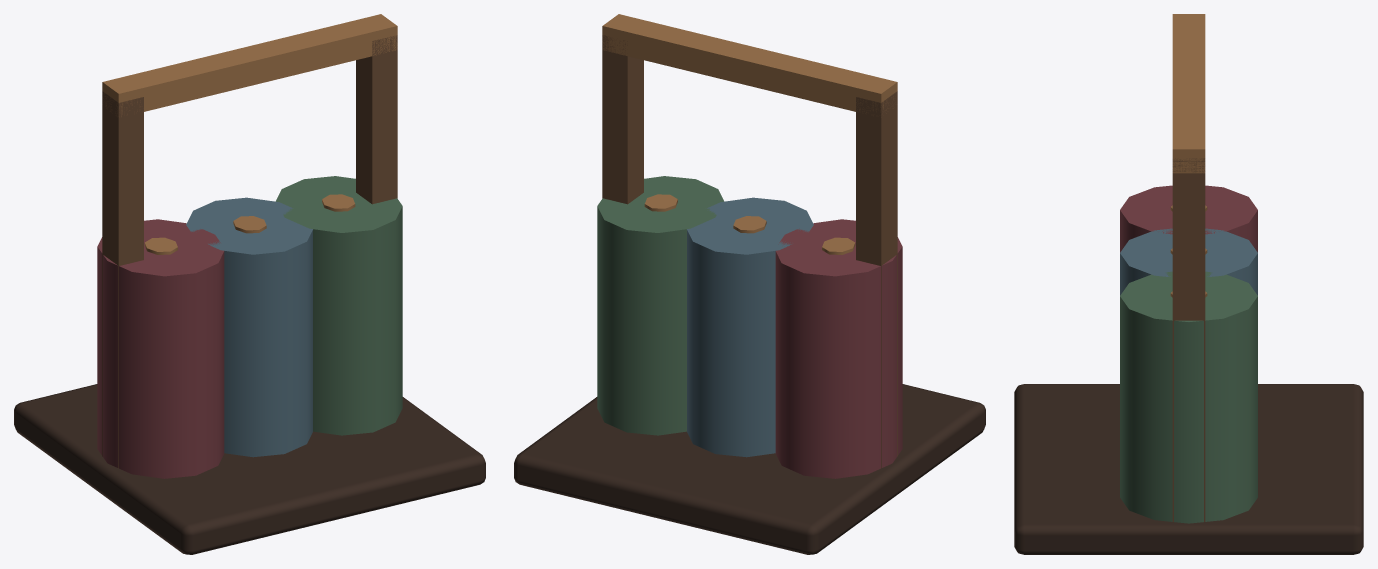
Rendered from cloth_bolts.glb.
3 renders of one model, left to right at view 1: azimuth 30°, elevation 25°; view 2: azimuth 150°, elevation 25°; view 3: azimuth 270°, elevation 25°, orthographic.
Visible parts, largest first — view 1: cloth_bolts; view 2: cloth_bolts; view 3: cloth_bolts.
Part boxes in pixels (x1=…): cloth_bolts: x1=14, y1=14, x2=485, y2=554; cloth_bolts: x1=514, y1=14, x2=985, y2=554; cloth_bolts: x1=1014, y1=14, x2=1363, y2=554.
Bounding box in the file's own units: 1.1 × 1.4 × 1.1.
Materials: 1 (1 with a texture image).
